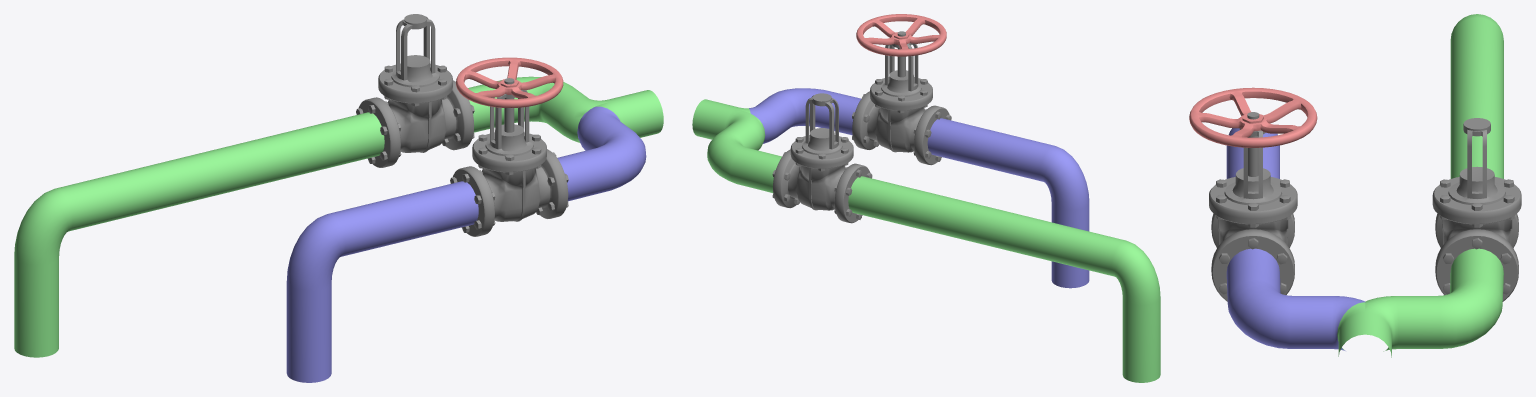
Rendered from SM_Sliv_All_Truba_04.gltf.
3 views of the same model, side by side, from view 1: azimuth 30°, elevation 25°; view 2: azimuth 150°, elevation 25°; view 3: azimuth 270°, elevation 25° (orthographic). The views are drawn at different scales.
Parts seen in each view (by area): view 1: SM_Sliv_All_Truba_04; view 2: SM_Sliv_All_Truba_04; view 3: SM_Sliv_All_Truba_04.
Part boxes in pixels (x1,y1,x2,y2): SM_Sliv_All_Truba_04: (14,14,663,382); SM_Sliv_All_Truba_04: (692,14,1160,382); SM_Sliv_All_Truba_04: (1189,14,1521,357).
Size of the model in its own units: 1.99 by 0.7917 by 0.8178.
